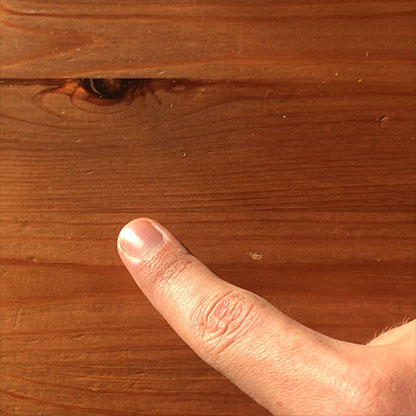fingertip: (108, 210, 180, 278)
